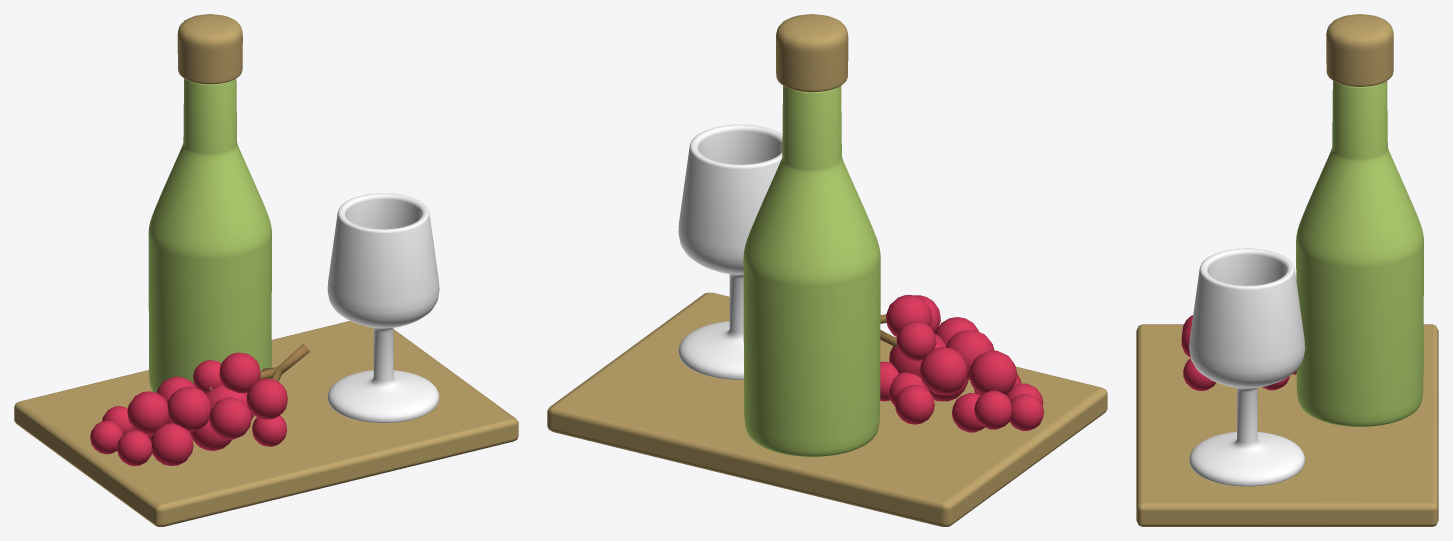
Rendered from Wine.fbx.
3 views of the same model, side by side, from view 1: azimuth 30°, elevation 25°; view 2: azimuth 150°, elevation 25°; view 3: azimuth 270°, elevation 25° (orthographic). The views are drawn at different scales.
Visible parts, largest first — view 1: tray, Vine Bottle, Vine Glass, Grapes; view 2: Vine Bottle, tray, Vine Glass, Grapes; view 3: Vine Bottle, tray, Vine Glass, Grapes.
Part boxes in pixels (<box>): tray: <box>14,321,518,526</box>; Vine Bottle: <box>148,14,271,392</box>; Vine Glass: <box>327,193,439,422</box>; Grapes: <box>90,344,309,466</box>; Vine Bottle: <box>743,14,880,456</box>; tray: <box>547,292,1107,526</box>; Vine Glass: <box>678,124,782,379</box>; Grapes: <box>880,295,1043,432</box>; Vine Bottle: <box>1296,14,1423,426</box>; tray: <box>1136,324,1438,526</box>; Vine Glass: <box>1189,248,1305,486</box>; Grapes: <box>1181,315,1296,390</box>.
Bounding box in the file's own units: 287 × 293 × 199.
